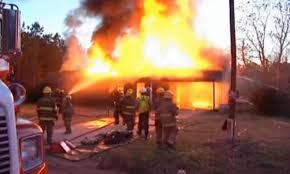fire: (75, 0, 226, 78)
